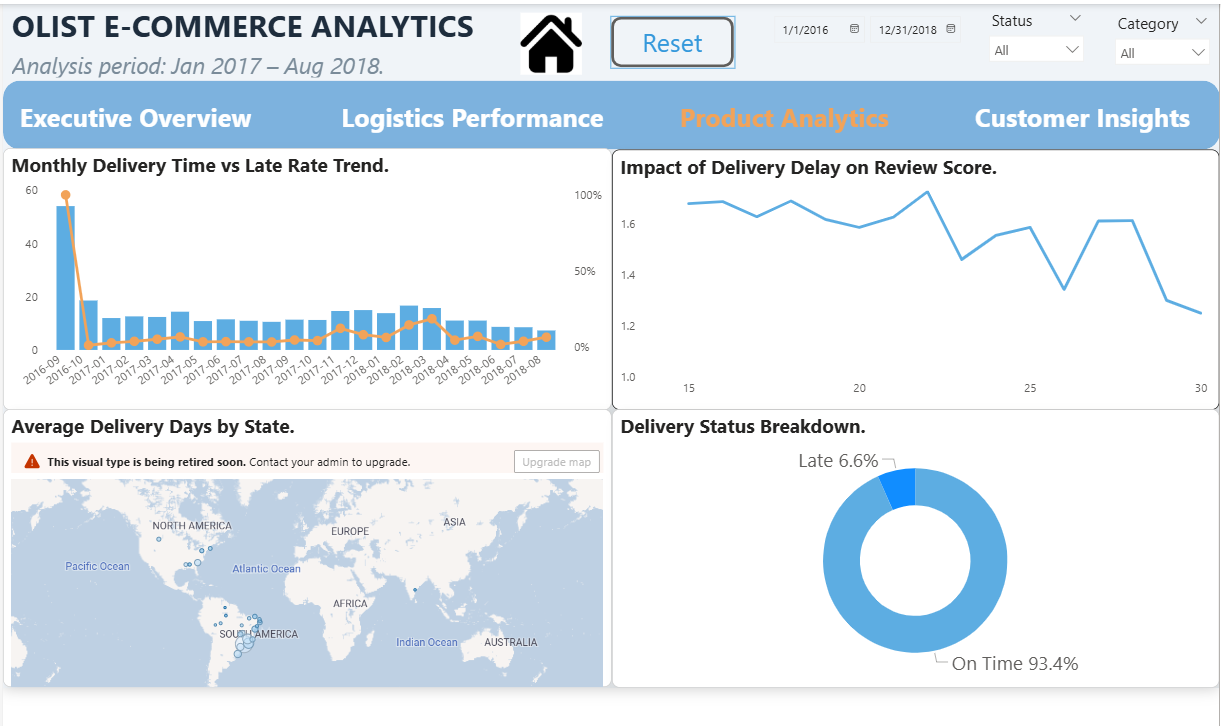

Layout of this report page (visuals, bound fields, positions):
{"tool":"powerbi","page":{"name":"Products","canvas":[1280,720],"ordinal":2},"visuals":[{"type":"shape","title":"OLIST E-COMMERCE ANALYTICS","box":[9.4,0,500.8,77.5],"z":0},{"type":"image","box":[544.7,3.2,64.7,77.4],"z":1000},{"type":"actionButton","box":[639.5,12.6,131.1,55.3],"z":2000},{"type":"slicer","fields":{"Values":["Dim_Date.date"]},"box":[799,3.2,216.3,70],"z":3000},{"type":"slicer","fields":{"Values":["Dim_Customers.customer_state"]},"box":[1027.9,0,120,70],"z":4000},{"type":"slicer","fields":{"Values":["Dim_Products.category"]},"box":[1160.5,3.2,120,70],"z":5000},{"type":"shape","box":[0,80.3,1281,72.7],"z":6000},{"type":"actionButton","box":[9.1,96.9,260.4,39.4],"z":7000},{"type":"actionButton","box":[346.8,96.9,293.8,39.4],"z":8000},{"type":"actionButton","box":[705.6,96.9,233.2,39.4],"z":9000},{"type":"actionButton","box":[1016,96.9,242.3,39.4],"z":10000},{"type":"lineClusteredColumnComboChart","title":"Monthly Delivery Time vs Late Rate Trend.","fields":{"Category":["Dim_Date.year_month"],"Y":["_KeyMeasures.Avg Delivery Days"],"Y2":["_KeyMeasures.Late Delivery Rate"]},"box":[0,151.2,640.6,275.9],"z":11000},{"type":"map","title":"Average Delivery Days by State.","fields":{"Category":["Dim_Customers.customer_state"],"Size":["_KeyMeasures.Total Orders"]},"box":[0,427.1,640.6,292.9],"z":12000},{"type":"lineChart","title":"Impact of Delivery Delay on Review Score.","fields":{"Category":["Fact_Order_Items.delivery_delay_days"],"Y":["_KeyMeasures.Avg Review Score"]},"box":[641,153,639,274],"z":13000},{"type":"donutChart","title":"Delivery Status Breakdown.","fields":{"Y":["_KeyMeasures.Total Orders"],"Category":["Fact_Order_Items.Delivery Status"]},"box":[641,427,639,293],"z":14000}]}

Visuals, with their boxes on the page's 1280x720 design canvas (x1, y1, x2, y2). These are canvas units, not pixel positions in the 1221x726 screenshot, which may show the page scaled, cropped or inside an application window:
"OLIST E-COMMERCE ANALYTICS" shape: detection(9, 0, 510, 78)
image: detection(545, 3, 609, 81)
actionButton: detection(640, 13, 771, 68)
slicer - Dim_Date.date: detection(799, 3, 1015, 73)
slicer - Dim_Customers.customer_state: detection(1028, 0, 1148, 70)
slicer - Dim_Products.category: detection(1160, 3, 1280, 73)
shape: detection(0, 80, 1281, 153)
actionButton: detection(9, 97, 270, 136)
actionButton: detection(347, 97, 641, 136)
actionButton: detection(706, 97, 939, 136)
actionButton: detection(1016, 97, 1258, 136)
"Monthly Delivery Time vs Late Rate Trend." lineClusteredColumnComboChart: detection(0, 151, 641, 427)
"Average Delivery Days by State." map: detection(0, 427, 641, 720)
"Impact of Delivery Delay on Review Score." lineChart: detection(641, 153, 1280, 427)
"Delivery Status Breakdown." donutChart: detection(641, 427, 1280, 720)
